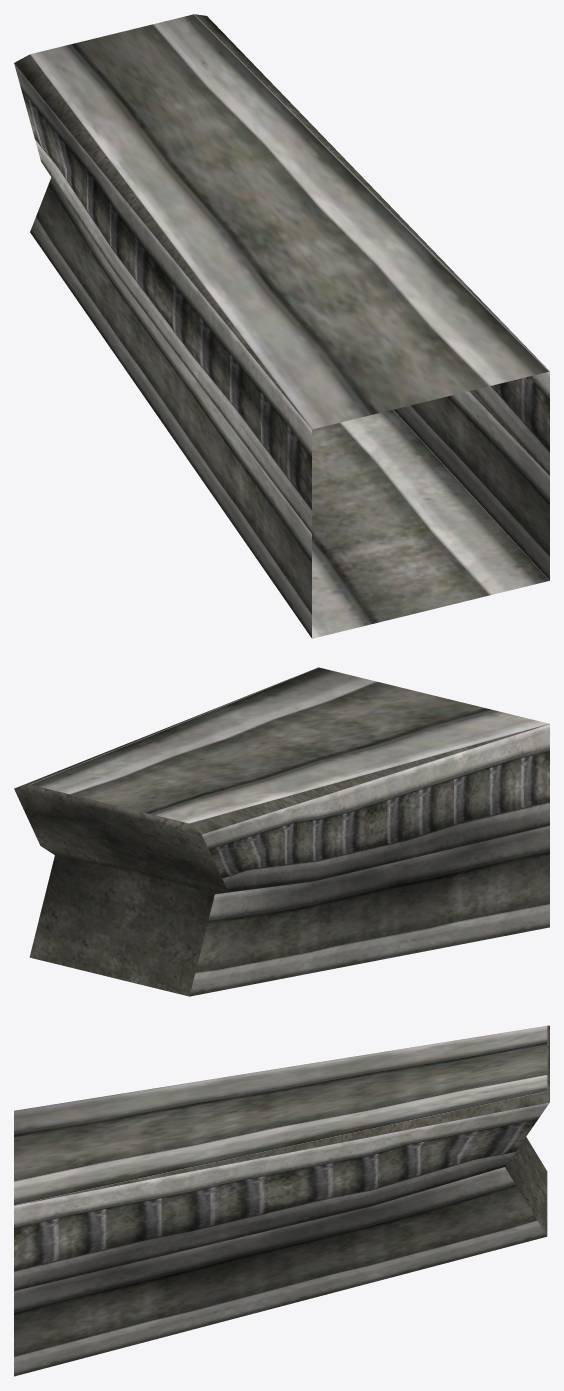
File: DWARF_PALACE_MAINHALL_COLUMN_DEBREE01.fbx
3 renders of one model, top to bottom at view 1: azimuth 30°, elevation 25°; view 2: azimuth 150°, elevation 25°; view 3: azimuth 270°, elevation 25°, orthographic. The views are drawn at different scales.
Visible parts, largest first — view 1: DWARF_PALACE_MAINHALL_COLUMN_DEBREE01; view 2: DWARF_PALACE_MAINHALL_COLUMN_DEBREE01; view 3: DWARF_PALACE_MAINHALL_COLUMN_DEBREE01.
Boxes of the visible parts, left/top/right/bottom form: DWARF_PALACE_MAINHALL_COLUMN_DEBREE01: left=14, top=14, right=549, bottom=638; DWARF_PALACE_MAINHALL_COLUMN_DEBREE01: left=14, top=667, right=549, bottom=996; DWARF_PALACE_MAINHALL_COLUMN_DEBREE01: left=14, top=1025, right=549, bottom=1376.
Bounding box in the file's own units: 23793 × 32000 × 56831.
3 materials, 3 textured.
